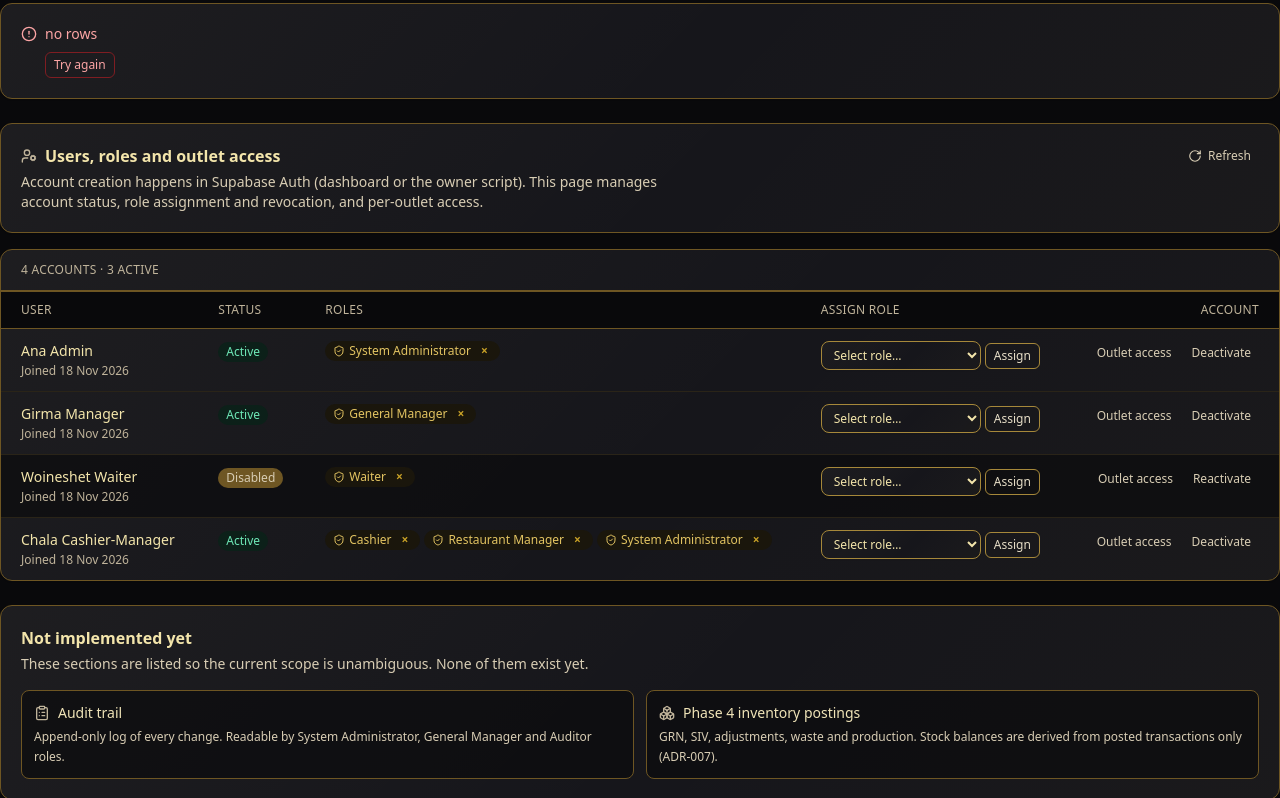
Test case: Settings — users › shows a database rejection such as the last-admin guard
(page scrolled)
Expected: the text "Chala Cashier-Manager" is shown, [21, 530, 178, 550]
Step 1. Click the button named "Revoke System Administrator from Chala Cashier-Manager" → (756, 540), box [749, 532, 764, 548]
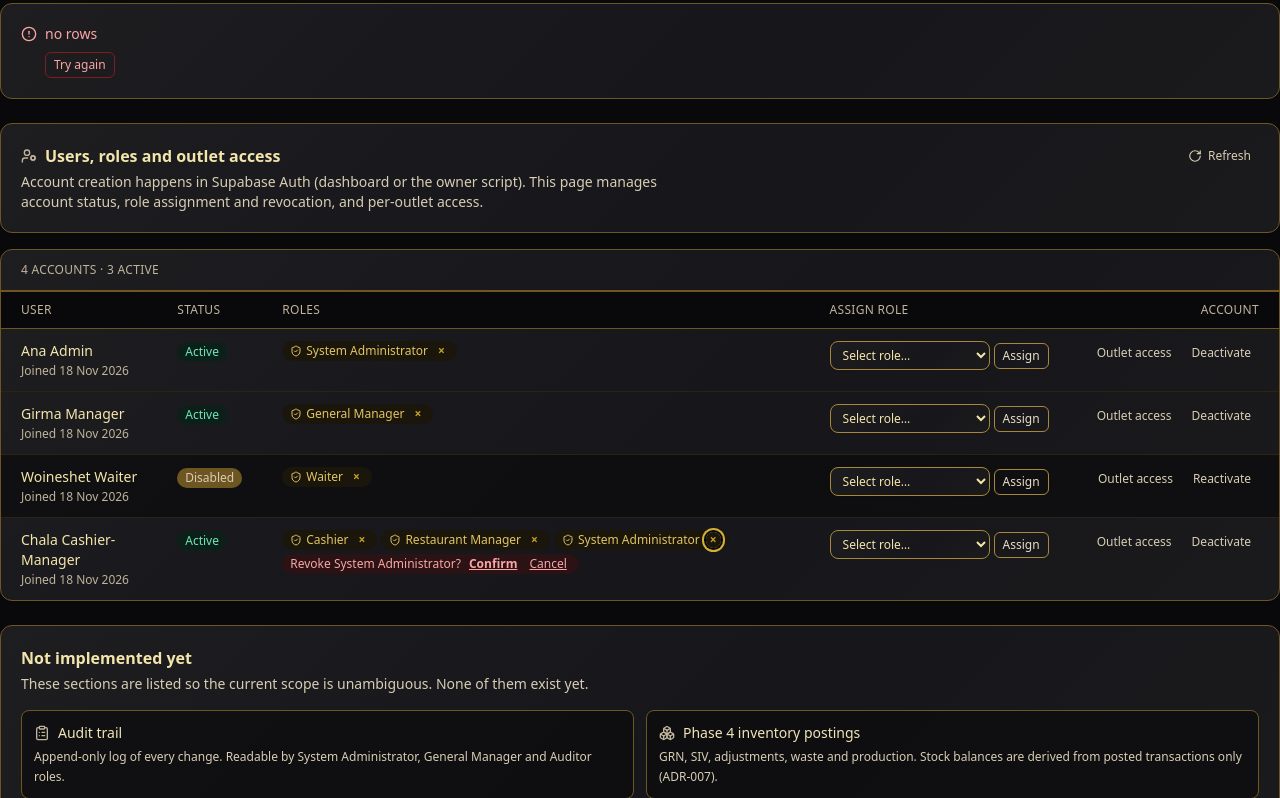
Step 2. Click the button named "Confirm revoke System Administrator from Chala Cashier-Manager" → (493, 564), box [465, 556, 522, 572]
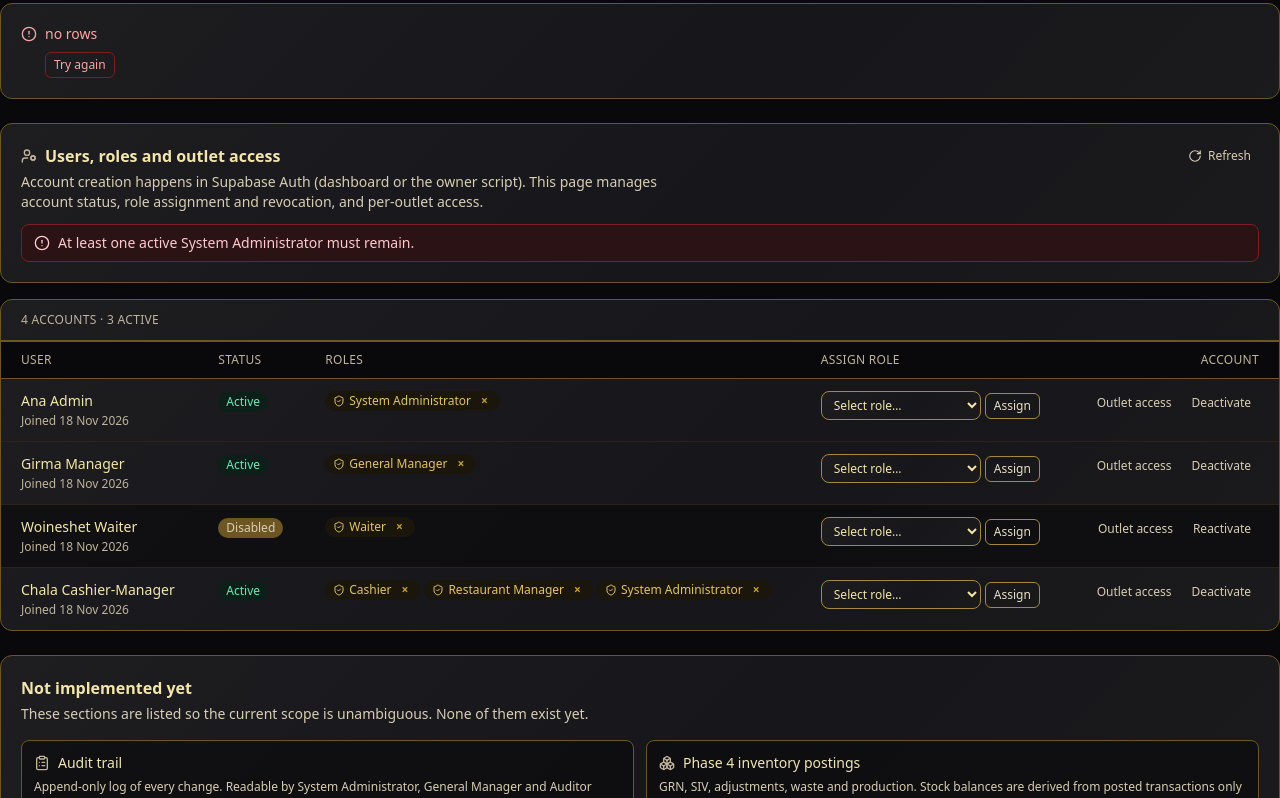
Result: the text "At least one active System Administrator must remain." is shown at [58, 233, 414, 253]
